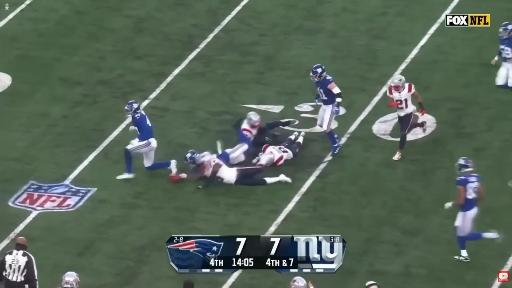Helmet: (310, 64, 326, 82), (456, 158, 473, 173), (62, 272, 79, 287), (391, 75, 405, 92), (125, 101, 140, 116), (257, 153, 274, 166), (247, 112, 261, 126), (184, 150, 197, 165), (499, 22, 511, 38), (291, 277, 307, 287)
Jersey: (202, 156, 237, 183), (456, 174, 480, 211), (388, 84, 415, 116), (132, 111, 153, 141), (315, 75, 336, 105), (262, 145, 293, 165), (240, 120, 258, 142), (498, 38, 511, 62), (217, 151, 231, 165)
Player: (445, 158, 499, 261), (117, 101, 177, 179), (186, 151, 291, 188), (227, 112, 293, 164), (387, 75, 426, 160), (311, 65, 342, 155), (253, 132, 305, 166), (227, 112, 261, 163), (492, 22, 511, 89), (61, 272, 79, 287), (290, 277, 313, 287)
